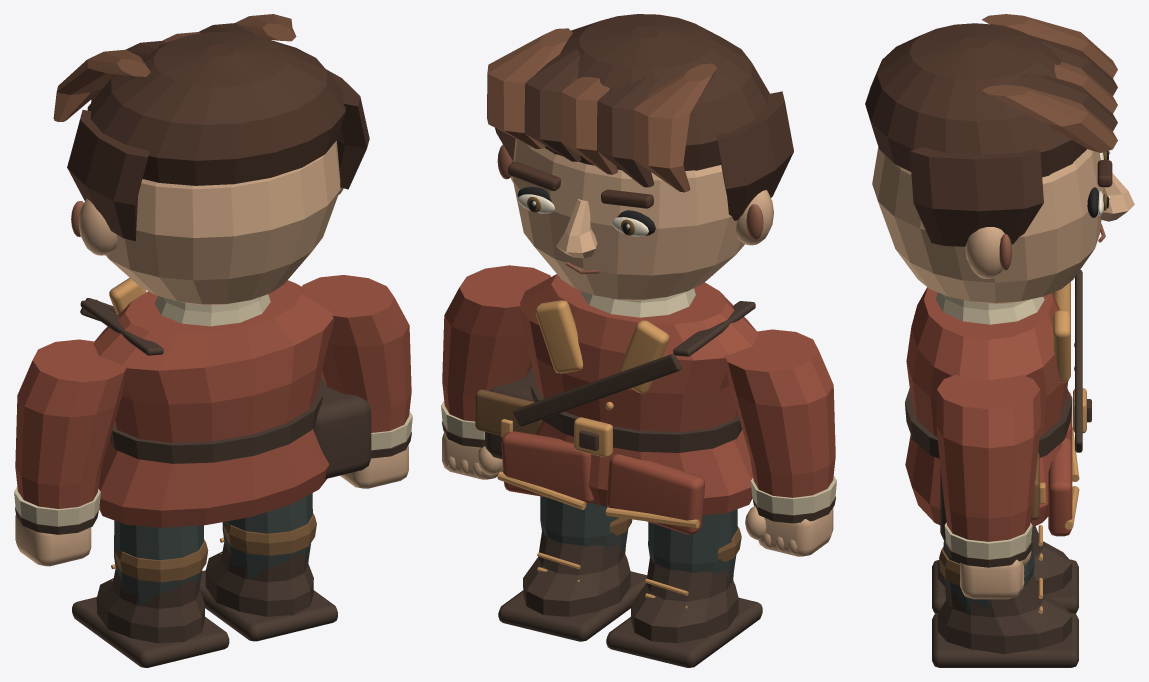
Rendered from rowan.glb.
3 views of the same model, side by side, from view 1: azimuth 30°, elevation 25°; view 2: azimuth 150°, elevation 25°; view 3: azimuth 270°, elevation 25° (orthographic).
Visible parts, largest first — view 1: rowan_tunic_body, rowan_hair_crown, rowan_face, rowan_sleeve_-1, rowan_sleeve_1, rowan_temple_-1, rowan_boot_1, rowan_boot_-1, rowan_waist_belt, rowan_satchel, rowan_trouser_-1, rowan_sole_-1 (+16 smaller); view 2: rowan_tunic_body, rowan_face, rowan_sleeve_-1, rowan_hair_crown, rowan_sleeve_1, rowan_boot_-1, rowan_boot_1, rowan_temple_-1, rowan_swept_lock_0, rowan_split_tail_-1, rowan_split_tail_1, rowan_swept_lock_4 (+27 smaller); view 3: rowan_hair_crown, rowan_face, rowan_sleeve_1, rowan_tunic_body, rowan_temple_1, rowan_boot_1, rowan_swept_lock_4, rowan_sole_1, rowan_swept_lock_0, rowan_palm_1, rowan_split_tail_1, rowan_collar_linen (+15 smaller).
Part boxes in pixels (x1,y1,x2,y2): rowan_tunic_body: (93, 280, 333, 527); rowan_hair_crown: (87, 31, 345, 185); rowan_face: (105, 141, 340, 305); rowan_sleeve_-1: (15, 339, 127, 508); rowan_sleeve_1: (302, 275, 411, 432); rowan_temple_-1: (67, 110, 149, 241); rowan_boot_1: (205, 542, 313, 616); rowan_boot_-1: (96, 569, 204, 643); rowan_waist_belt: (109, 388, 322, 463); rowan_satchel: (313, 377, 371, 478); rowan_trouser_-1: (114, 520, 203, 606); rowan_sole_-1: (72, 597, 229, 667); rowan_tunic_body: (519, 274, 758, 515); rowan_face: (513, 138, 744, 300); rowan_sleeve_-1: (724, 329, 835, 497); rowan_hair_crown: (545, 14, 769, 170); rowan_sleeve_1: (442, 265, 550, 421); rowan_boot_-1: (631, 557, 738, 643); rowan_boot_1: (523, 531, 630, 616); rowan_temple_-1: (716, 91, 793, 220); rowan_swept_lock_0: (633, 63, 717, 192); rowan_split_tail_-1: (606, 454, 704, 534); rowan_split_tail_1: (501, 431, 593, 503); rowan_swept_lock_4: (487, 28, 572, 148); rowan_hair_crown: (865, 23, 1086, 177); rowan_face: (872, 147, 1103, 303); rowan_sleeve_1: (936, 374, 1040, 541); rowan_tunic_body: (905, 287, 1067, 527); rowan_temple_1: (909, 147, 1043, 246); rowan_boot_1: (937, 574, 1072, 654); rowan_swept_lock_4: (982, 85, 1117, 152); rowan_sole_1: (932, 612, 1078, 667); rowan_swept_lock_0: (982, 14, 1117, 77); rowan_palm_1: (960, 559, 1022, 599); rowan_split_tail_1: (1048, 437, 1072, 536); rowan_collar_linen: (935, 292, 1044, 324).
Size of the model in its own units: 0.818 by 1.18 by 0.496.
